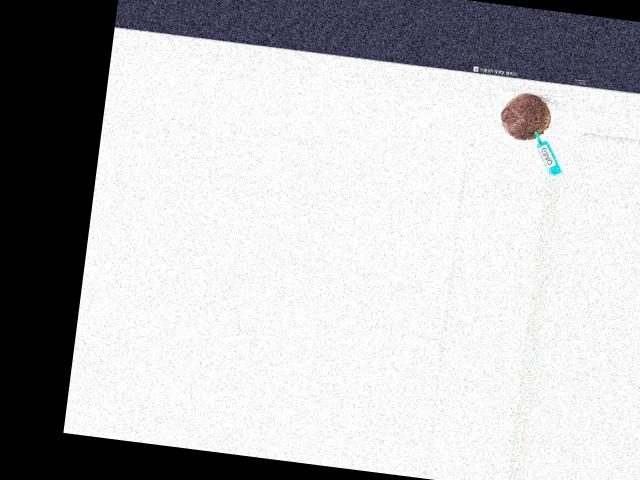beet: (498, 90, 553, 143)
